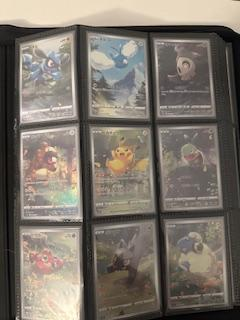card: (14, 123, 86, 225), (14, 21, 82, 127), (92, 220, 161, 320), (89, 123, 157, 218), (17, 225, 84, 320), (164, 218, 231, 313), (157, 124, 226, 214), (87, 28, 151, 124), (153, 34, 213, 125)
